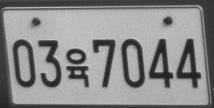0: (120, 37, 146, 89), (11, 38, 36, 88)
3: (37, 38, 62, 88)
4: (175, 37, 201, 89), (147, 38, 174, 88)
7: (91, 38, 116, 88)
육: (64, 47, 90, 87)
